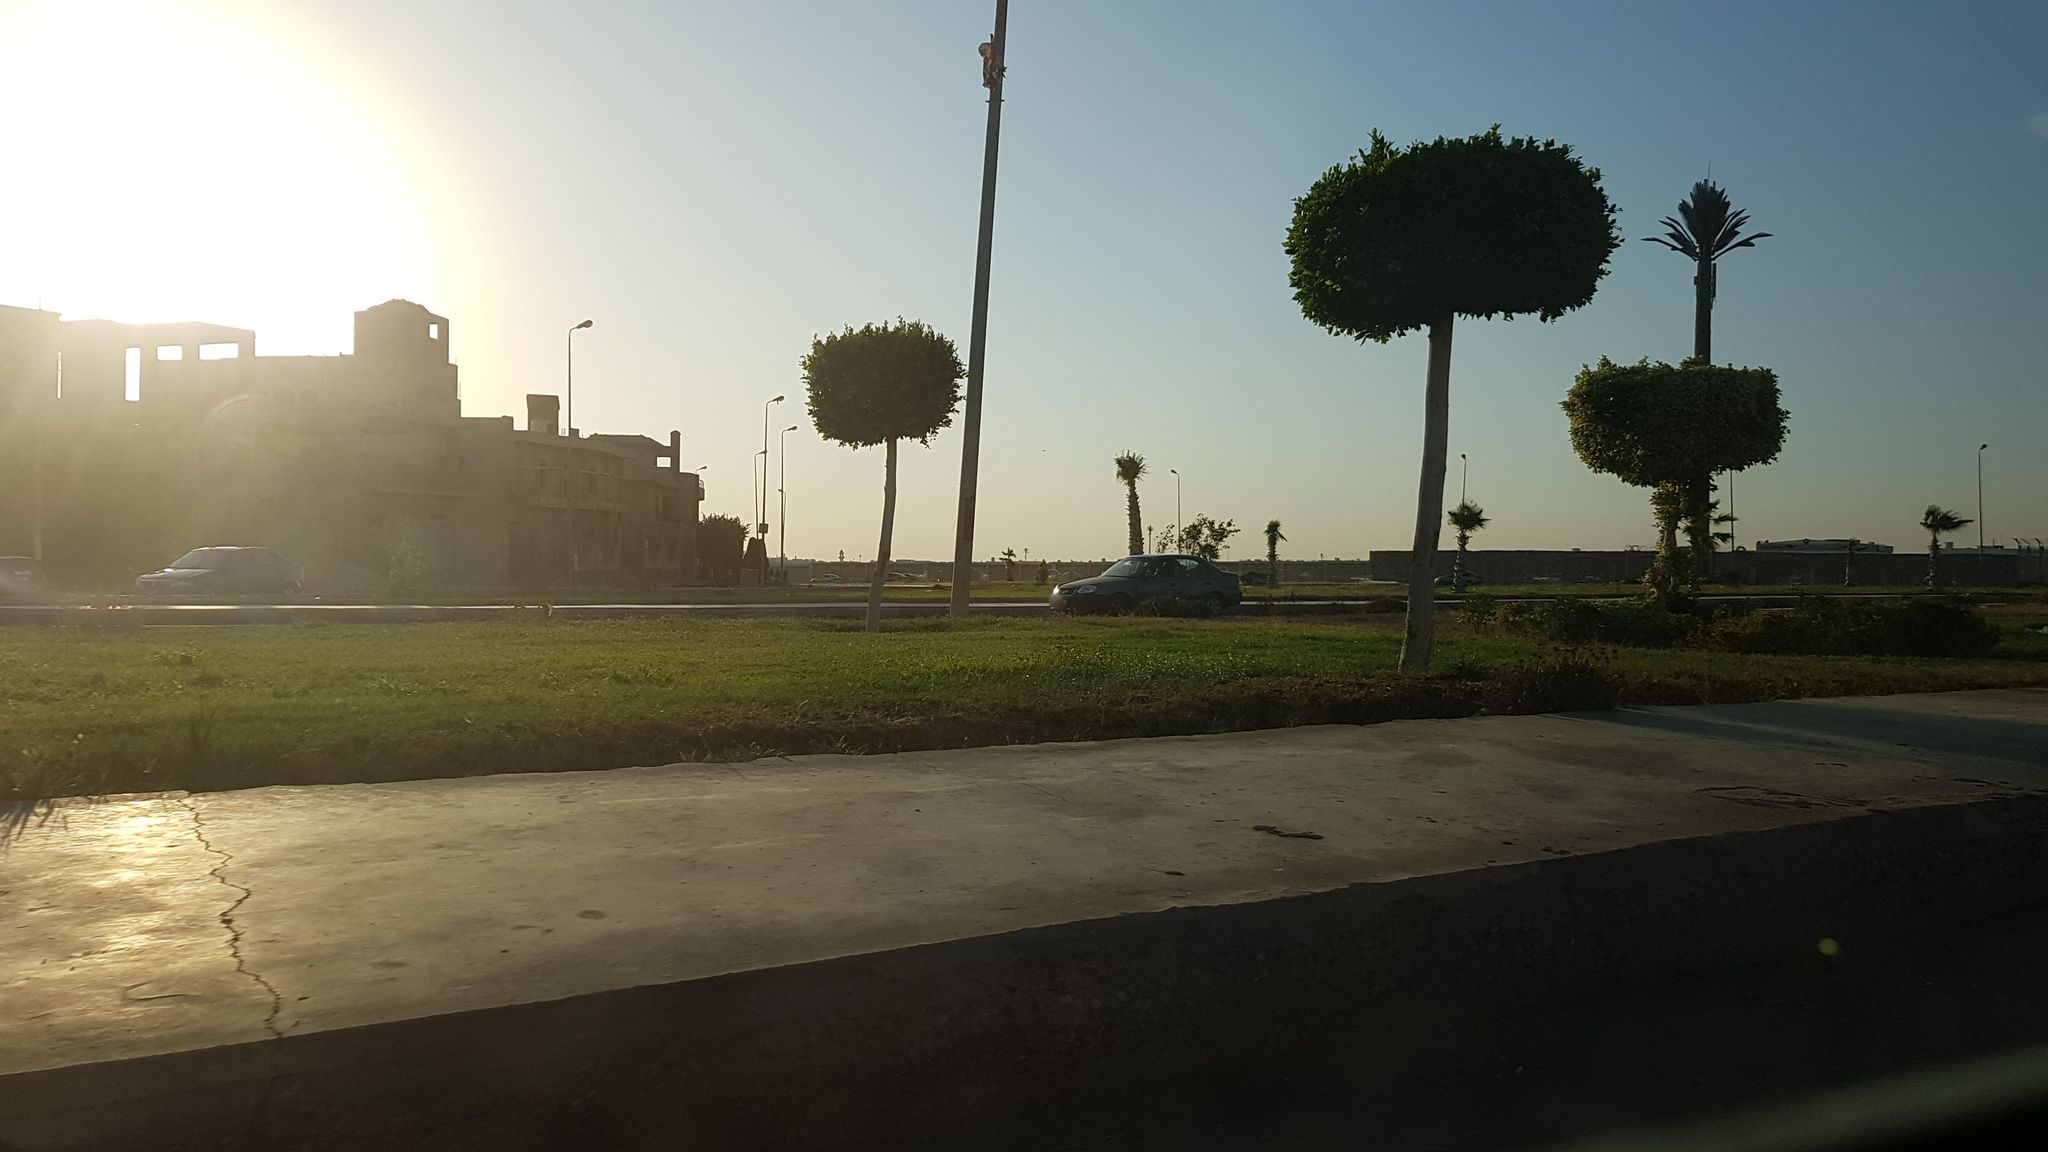car: (1048, 553, 1243, 612), (136, 544, 307, 594)
